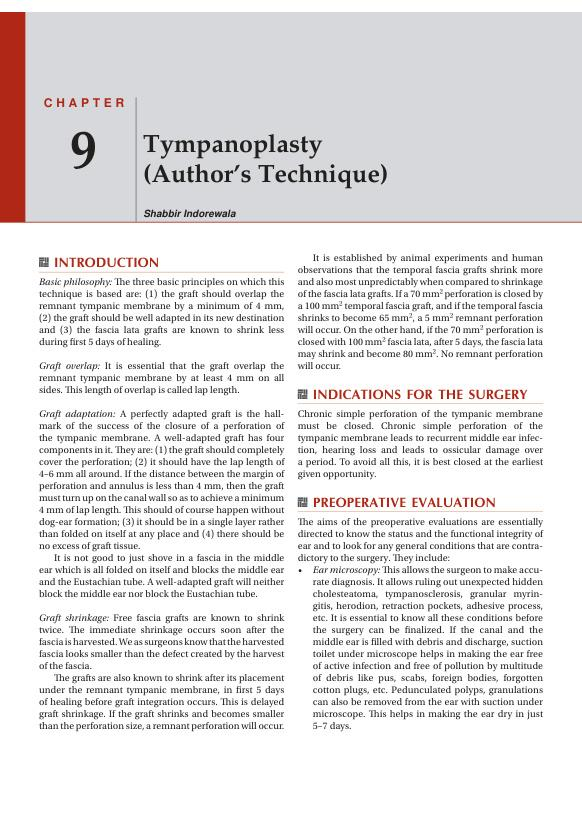chapter-heading: (140, 131, 390, 191)
section-heading: (311, 387, 530, 402), (312, 495, 498, 508), (53, 255, 161, 269)
text: (38, 274, 286, 734), (295, 515, 544, 734), (296, 251, 547, 372), (296, 407, 544, 482)
